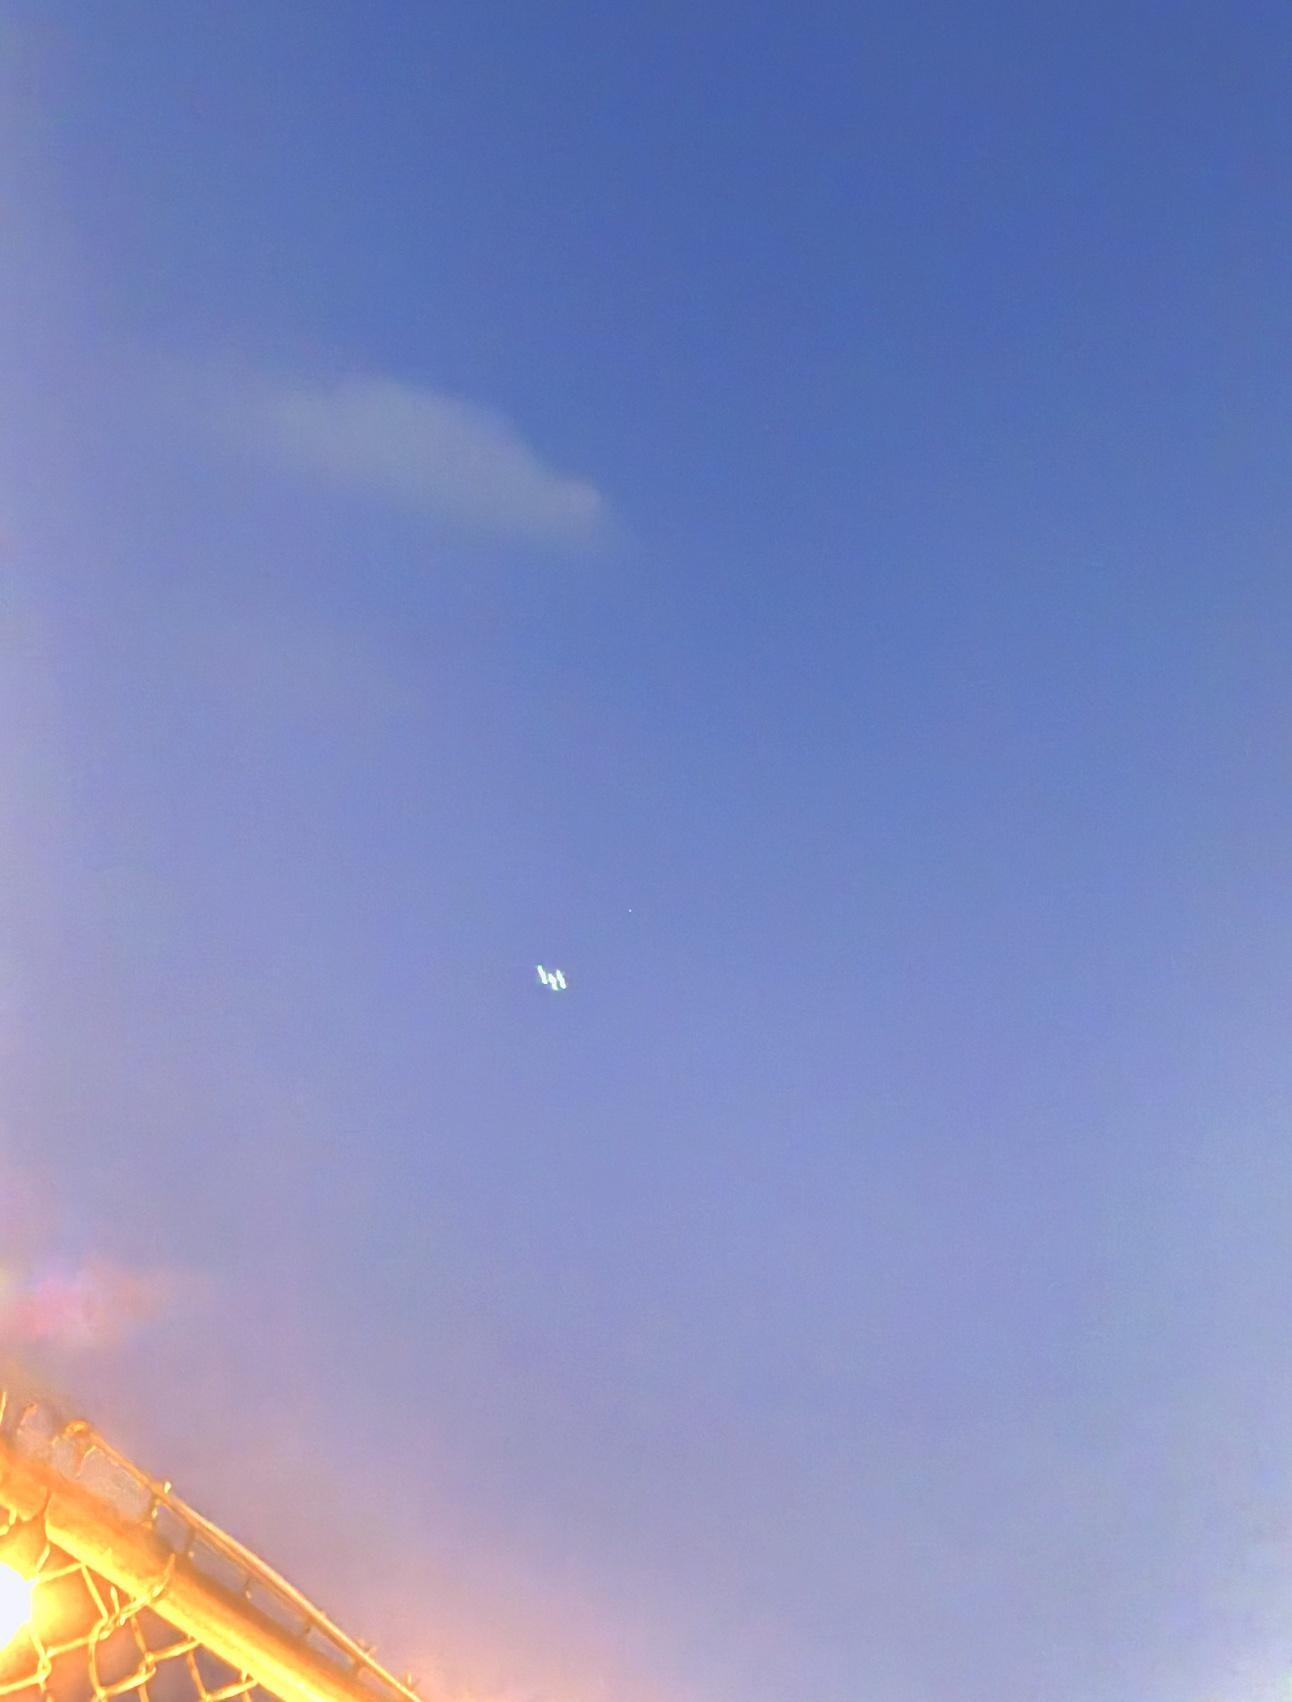Plane: (522, 953, 594, 1003)
